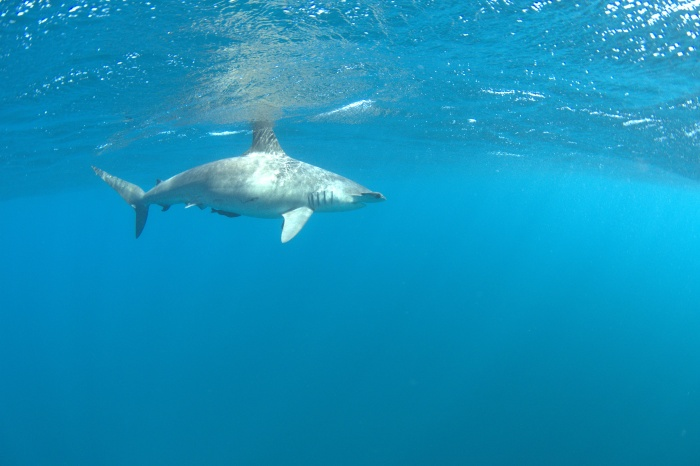Hammer: (72, 105, 404, 269)
